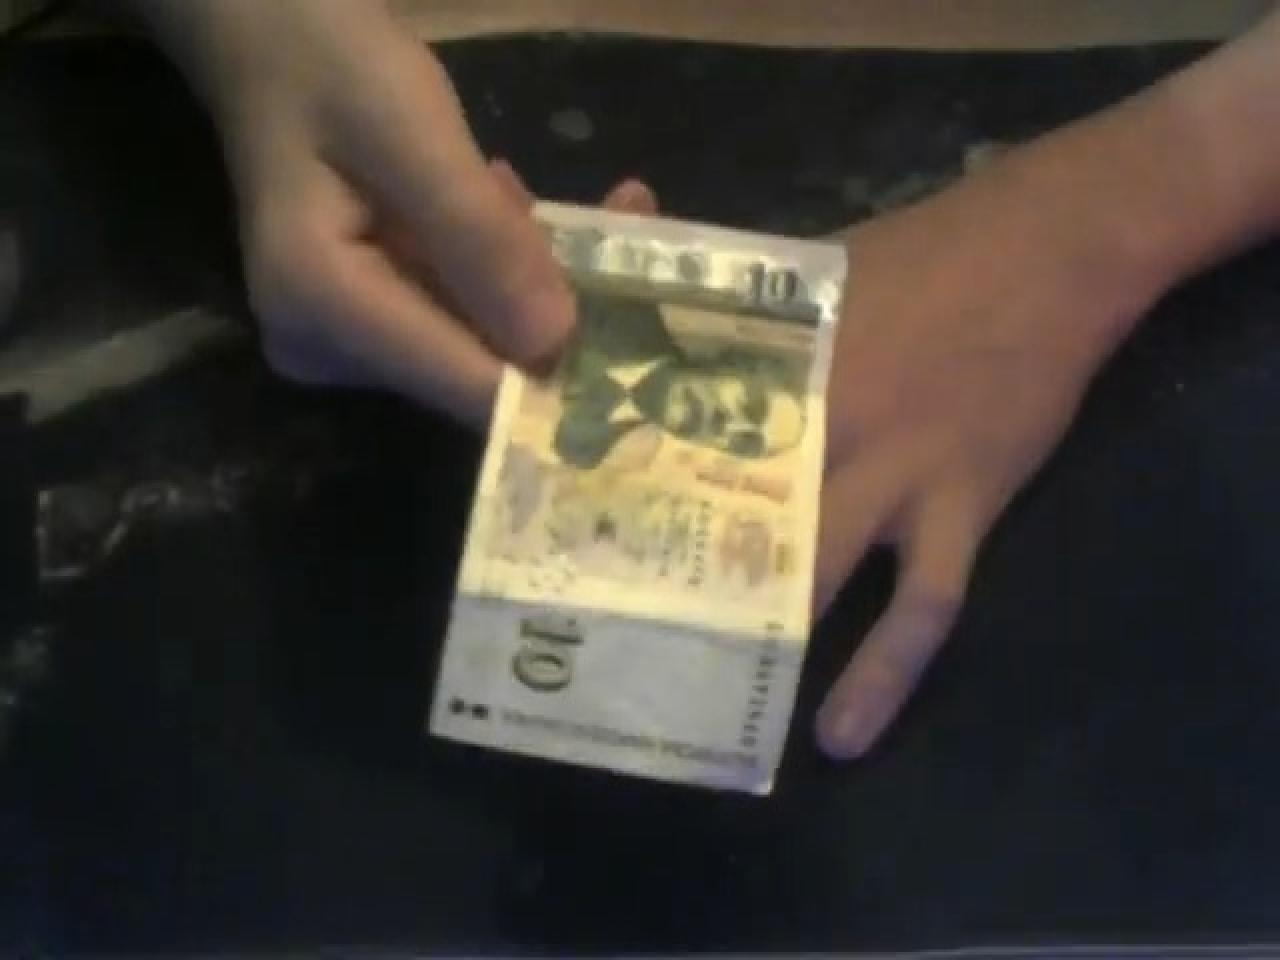10leva: (422, 192, 852, 800)
